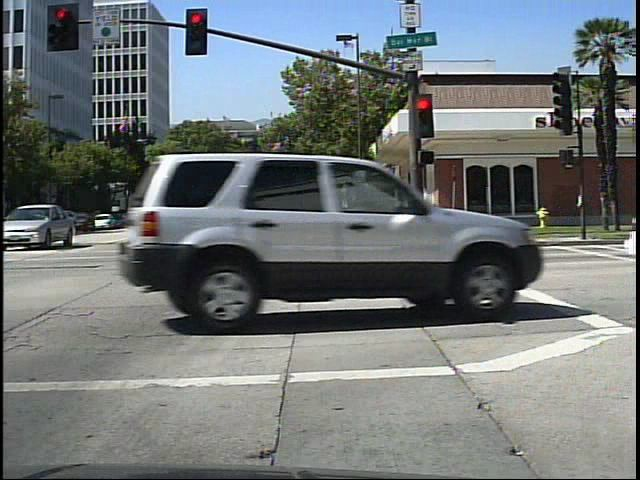person: (268, 205, 281, 223)
